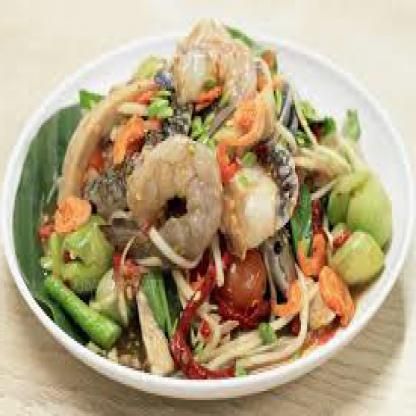Papaya Salad: (31, 21, 396, 400)
